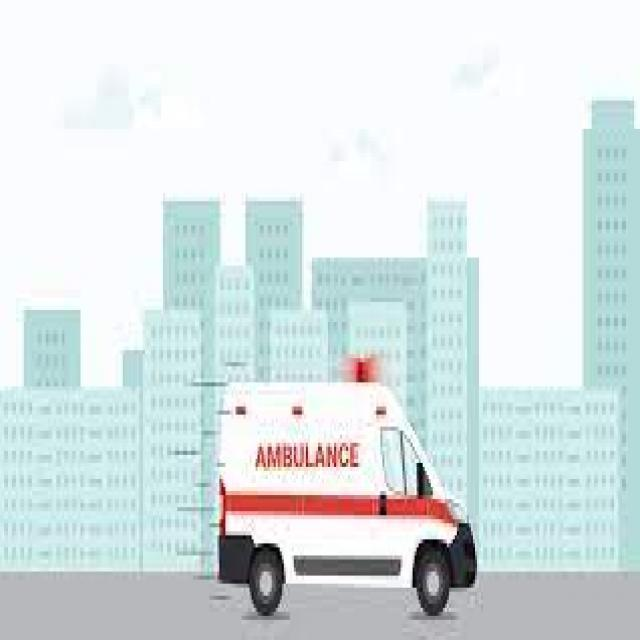emergency-vehicle: (207, 346, 479, 624)
